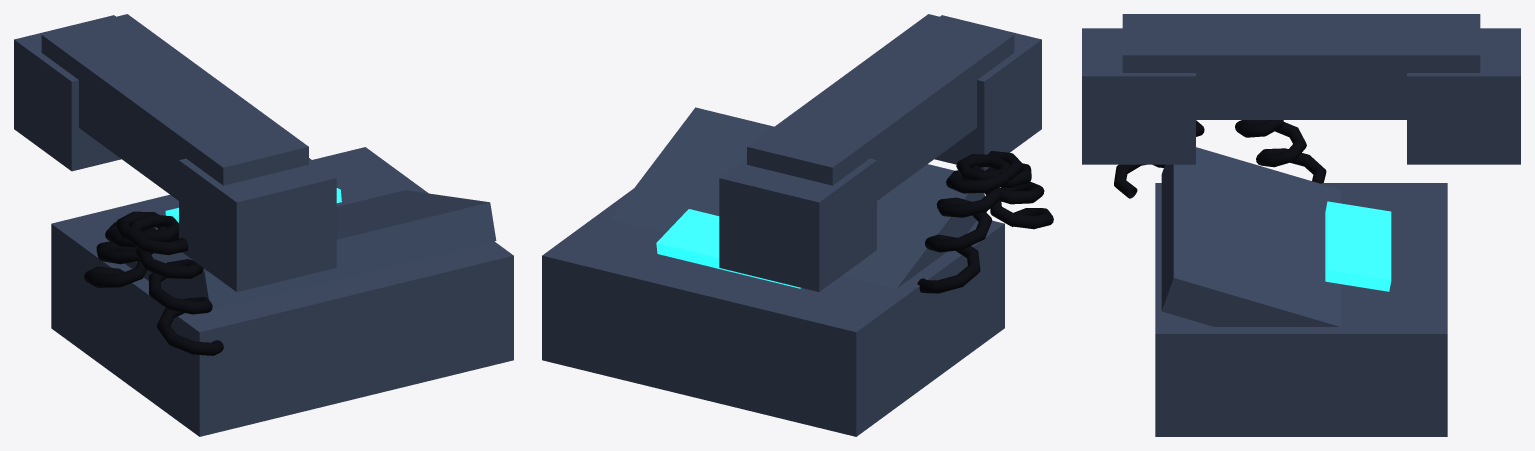
The model's file is Telefono.fbx.
The picture shows the model from 3 angles, left to right: view 1: azimuth 30°, elevation 25°; view 2: azimuth 150°, elevation 25°; view 3: azimuth 270°, elevation 25°; orthographic projection.
Parts seen in each view (by area): view 1: Telefono, Auricular, Cable; view 2: Telefono, Auricular, Cable; view 3: Telefono, Auricular, Cable.
Part boxes in pixels (box(x1,y1,x2,y2)): Telefono: box(51, 147, 513, 436); Auricular: box(14, 14, 336, 291); Cable: box(84, 211, 223, 355); Telefono: box(542, 107, 1004, 436); Auricular: box(719, 14, 1041, 291); Cable: box(917, 151, 1053, 293); Telefono: box(1155, 147, 1447, 436); Auricular: box(1082, 14, 1520, 164); Cable: box(1114, 120, 1326, 198).
Size of the model in its own units: 0.2489 by 0.187 by 0.27.
